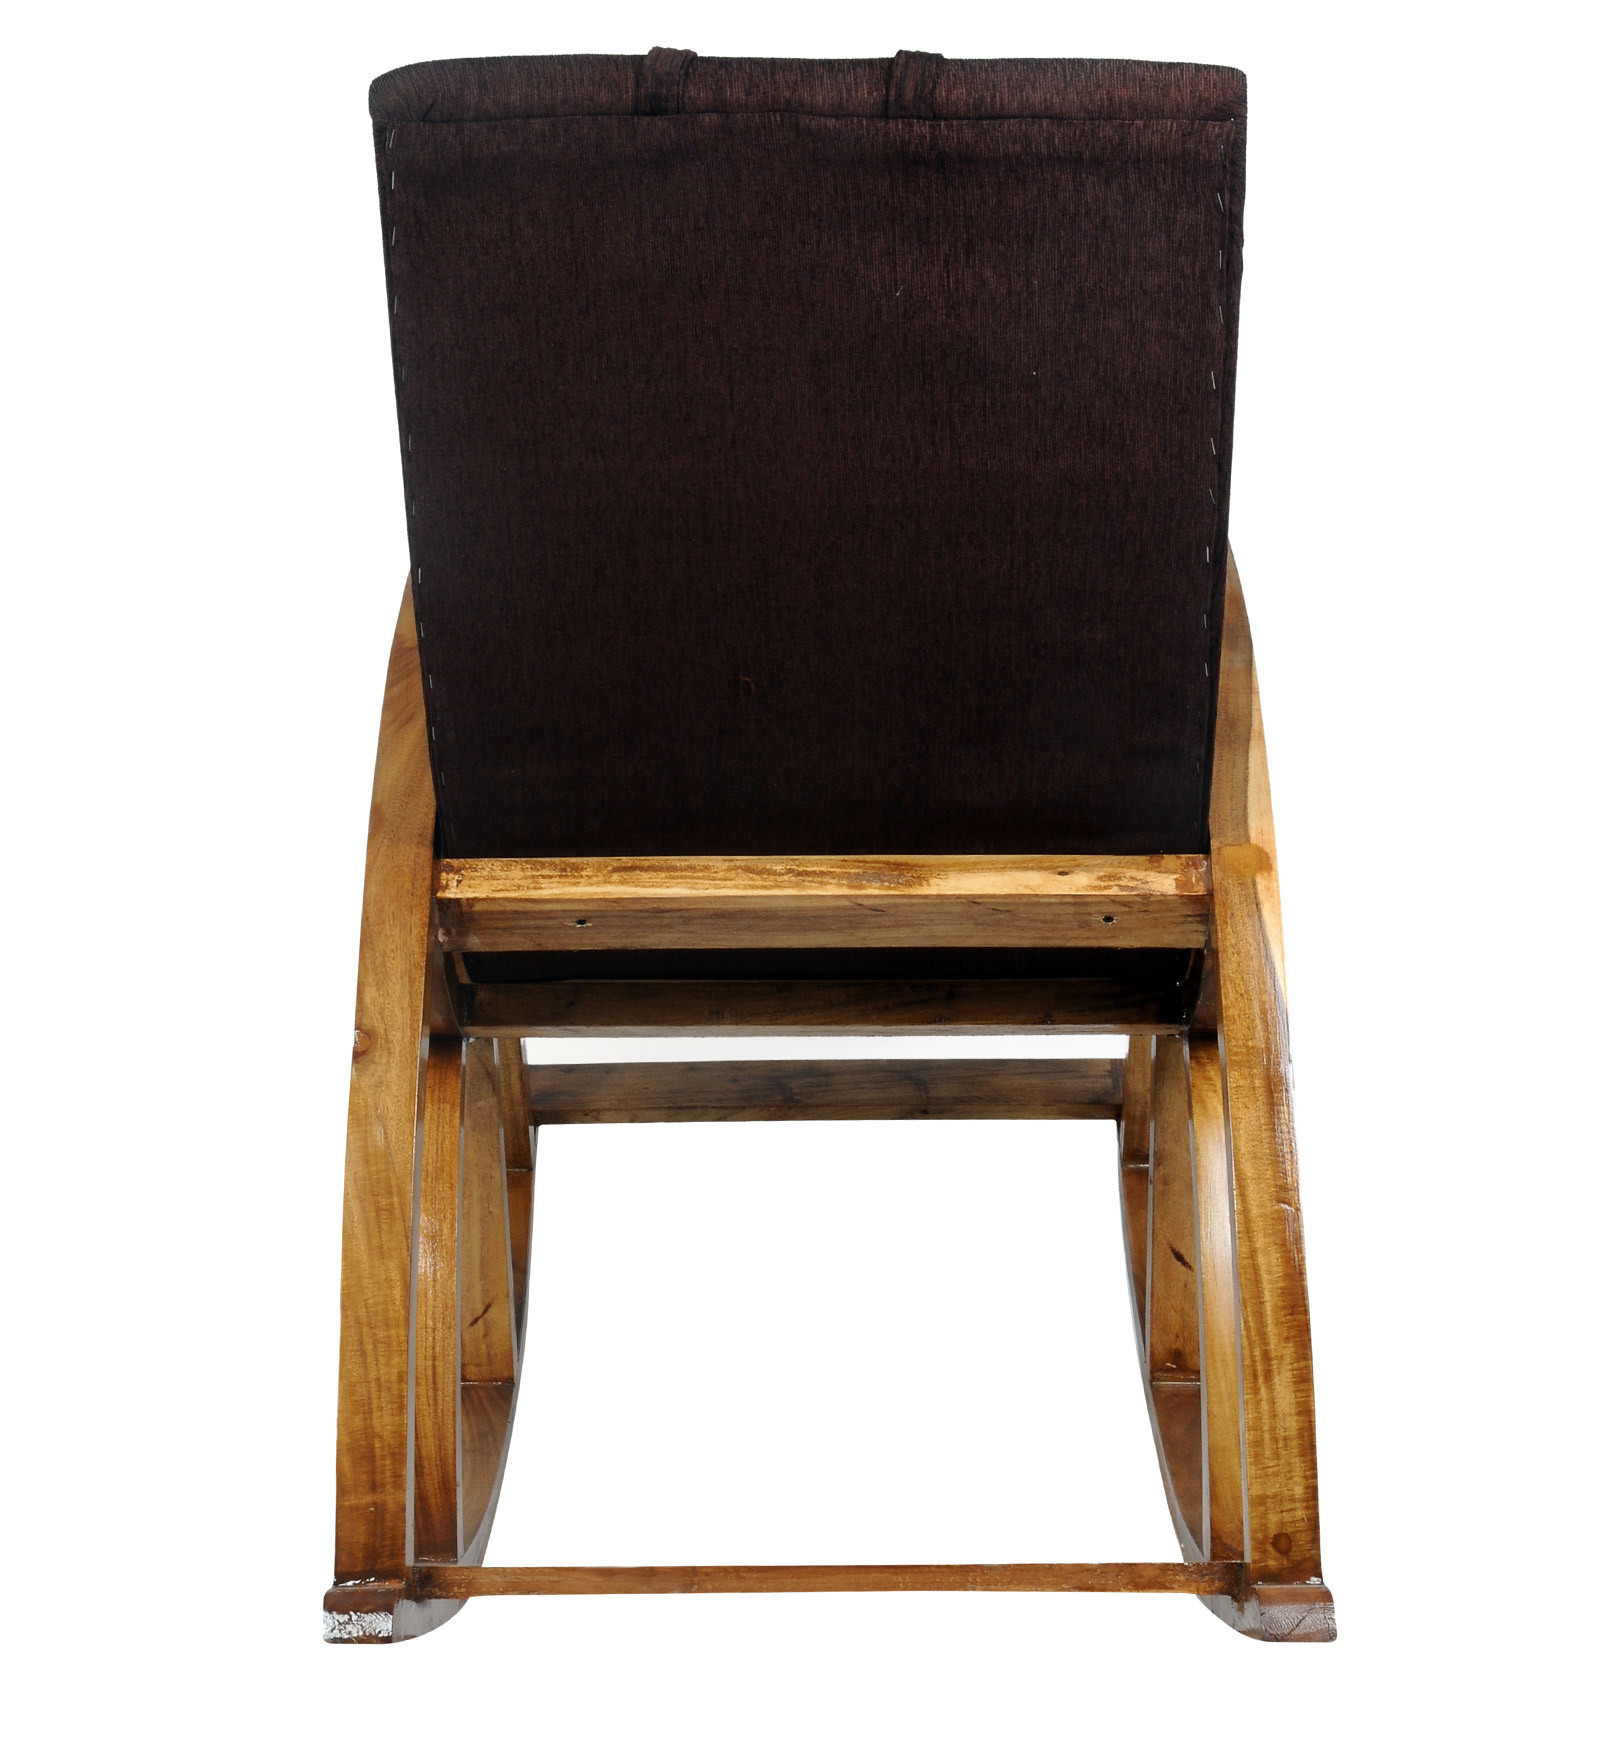Upholstered Teak Wood Rocking Chair in Natural Finish by Furniease: (274, 29, 1418, 1693)
